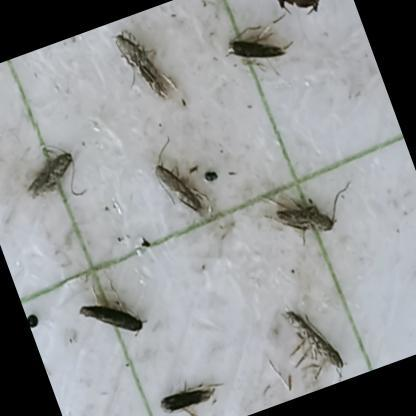prays_oleae: (8, 112, 102, 223), (273, 275, 359, 382), (205, 2, 300, 97), (142, 140, 223, 244), (65, 275, 155, 357), (106, 18, 180, 112), (260, 169, 340, 254), (150, 363, 235, 416)
